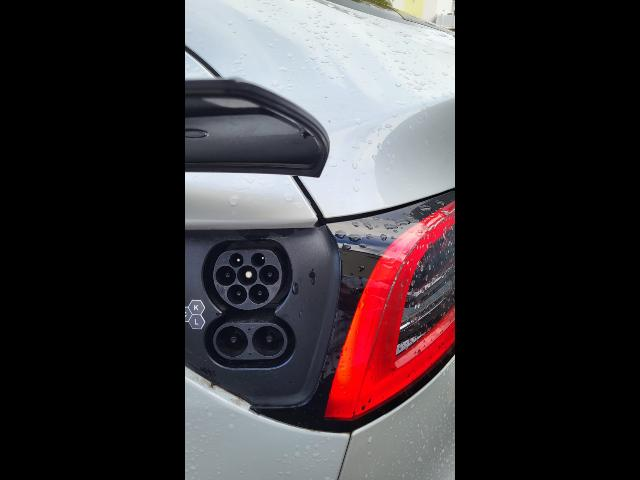inlet: (213, 250, 282, 310)
inlet-above-left: (229, 253, 244, 268)
inlet-above-right: (251, 253, 265, 267)
inlet-below-left: (227, 284, 247, 305)
inlet-below-right: (248, 283, 269, 304)
inlet-circle: (237, 265, 257, 285)
inlet-circle-left: (216, 265, 236, 286)
inlet-circle-right: (259, 265, 279, 285)
inlet-minus: (252, 326, 284, 357)
inlet-plus: (216, 326, 248, 357)
